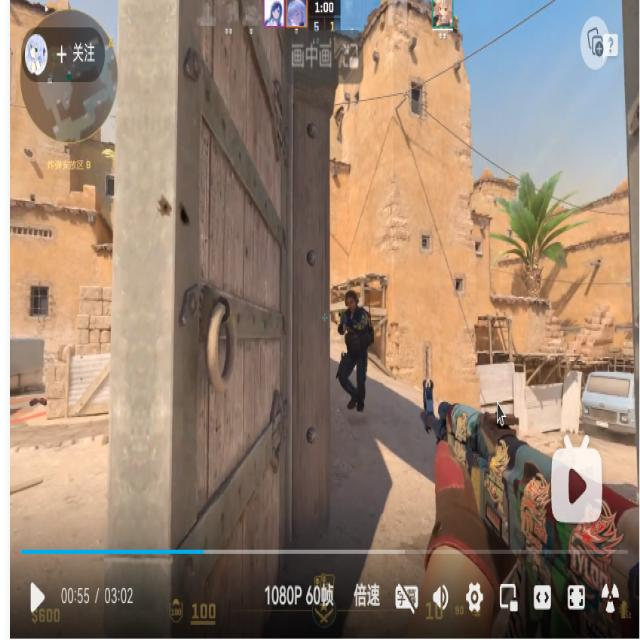person: (336, 290, 374, 413)
